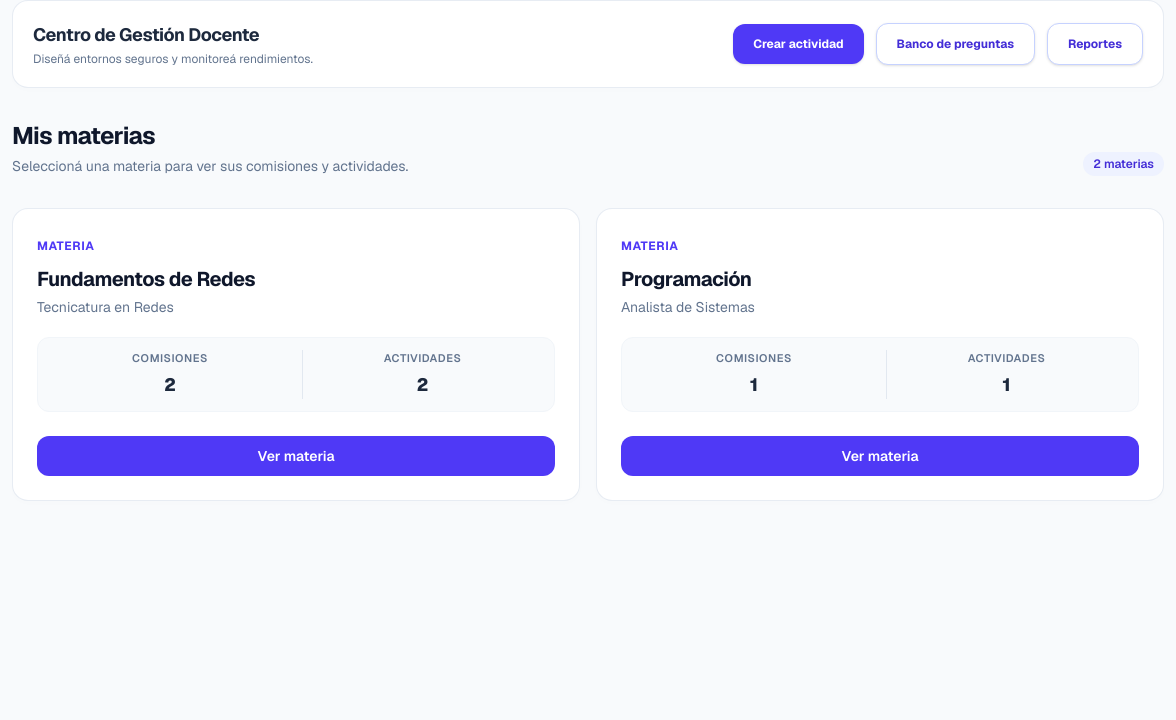
Test: TeacherEvaluationsExplorer › filtra las actividades por la comisión seleccionada
The width and height of the screenshot is (1176, 720).
Click the button "Ver materia" below "Tecnicatura en Redes": (296, 456) [37,436,555,476]
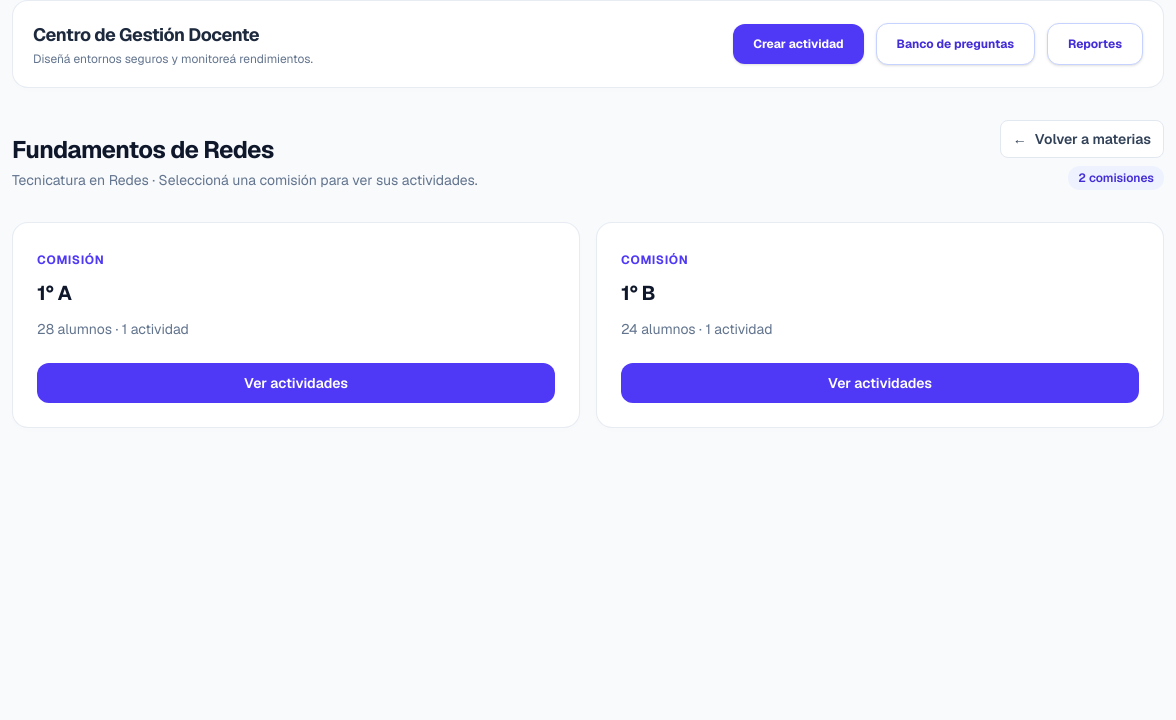
Click the button "Ver actividades" below "24": (880, 383) [621,363,1139,403]
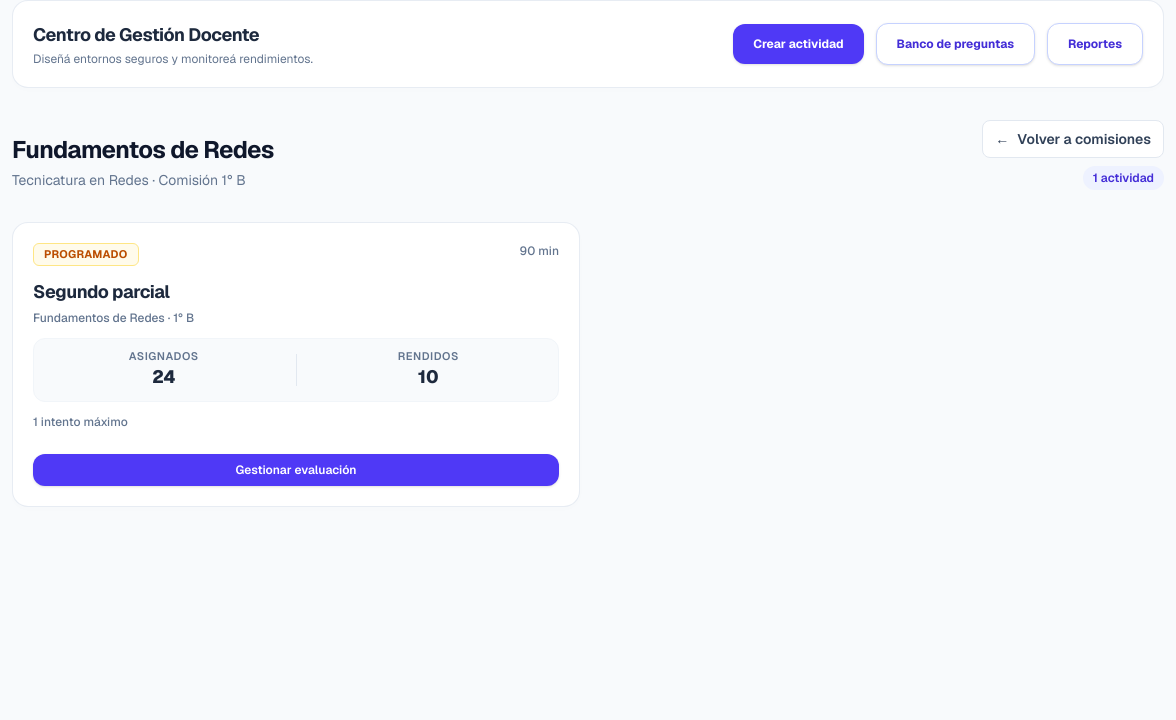
expect the heading "Segundo parcial" is shown: met, box [33,280,170,302]
expect the button "← Volver a comisiones" is shown: met, box [982,120,1164,158]
